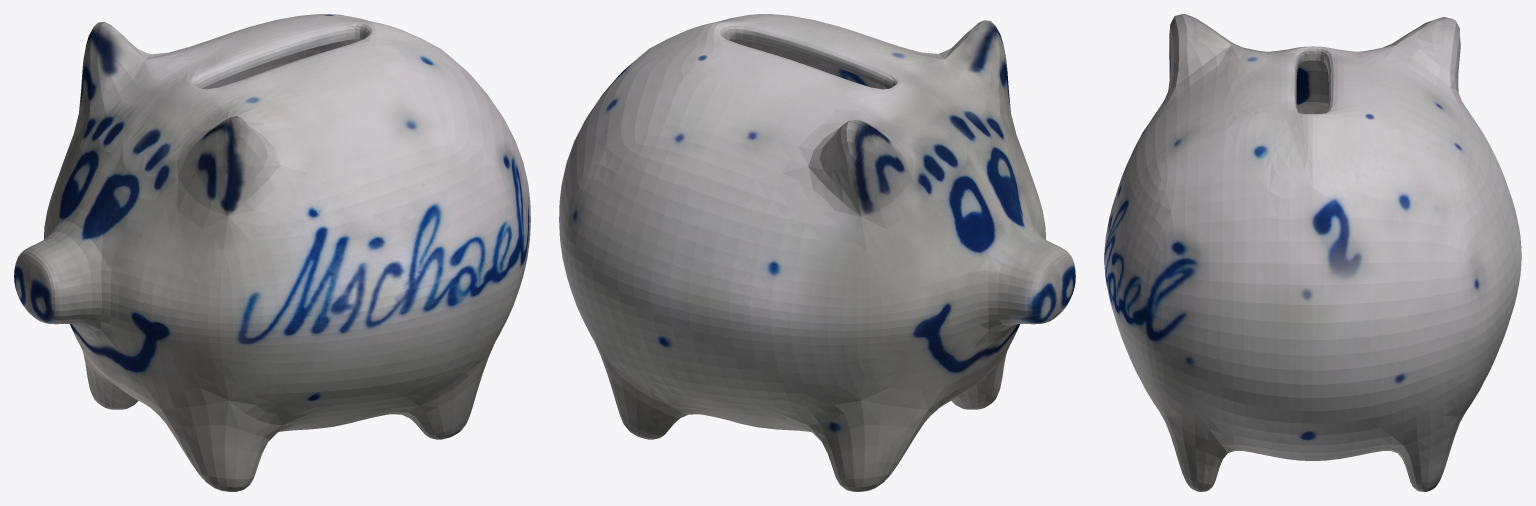
File: PiggyBank.obj
3 views of the same model, side by side, from view 1: azimuth 30°, elevation 25°; view 2: azimuth 150°, elevation 25°; view 3: azimuth 270°, elevation 25° (orthographic).
Bounding box in the file's own units: 4.65 × 3.58 × 3.62.
1 material, 1 textured.
